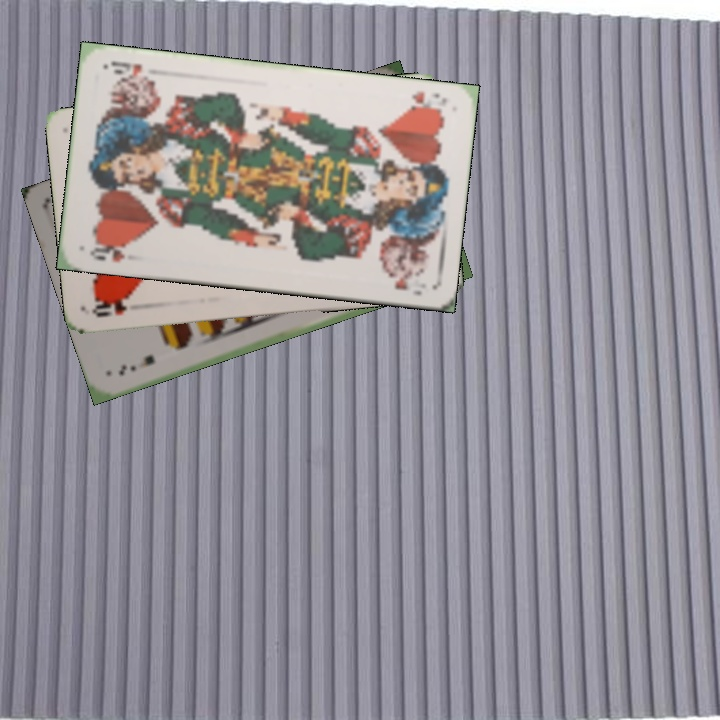E7: (114, 351, 157, 379)
HO: (403, 87, 450, 115), (86, 237, 134, 264), (89, 295, 133, 320)
